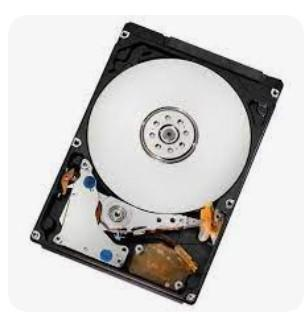internal HDD: (29, 22, 283, 306)
